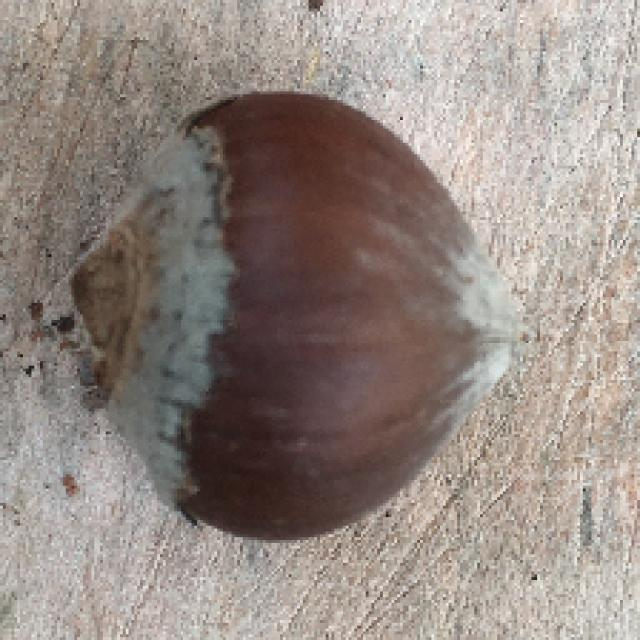damagedHazelnut: (53, 88, 517, 543)
